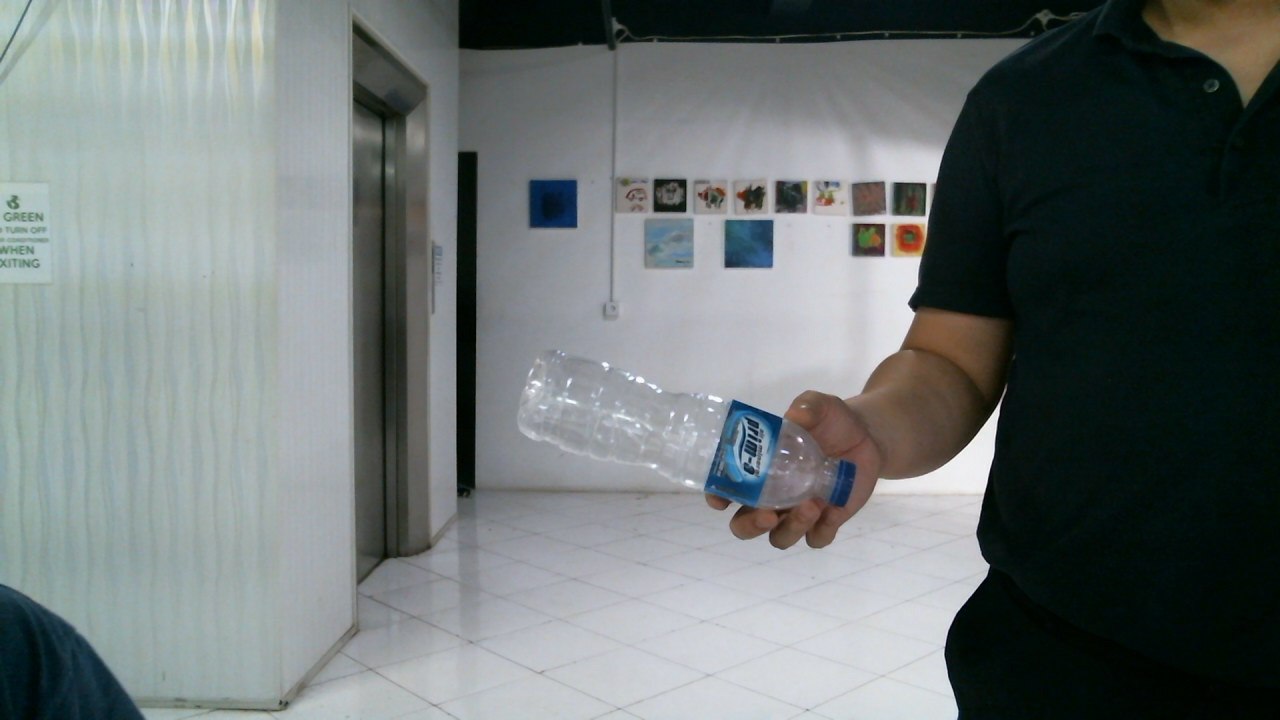Bottle: (522, 346, 856, 511)
